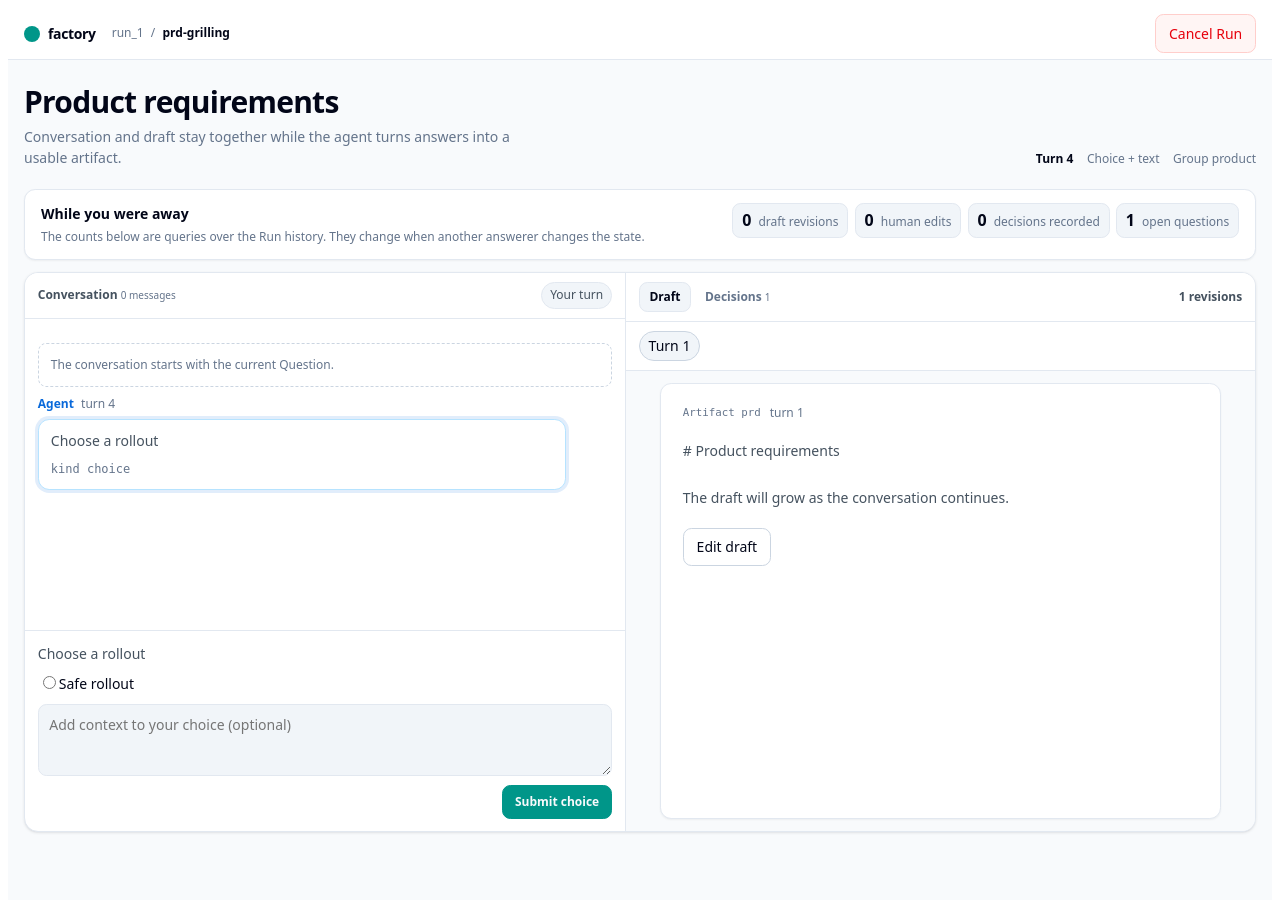
GrillingSession › shows the decisions tab and always keeps the free-text box for a choice Question
This screenshot has width=1280, height=900.
Expected: the text box named "answer" is shown, x1=38 y1=704 x2=612 y2=776
Click the tab "Decisions 1" at x=738, y=297, box x1=694 y1=282 x2=781 y2=312
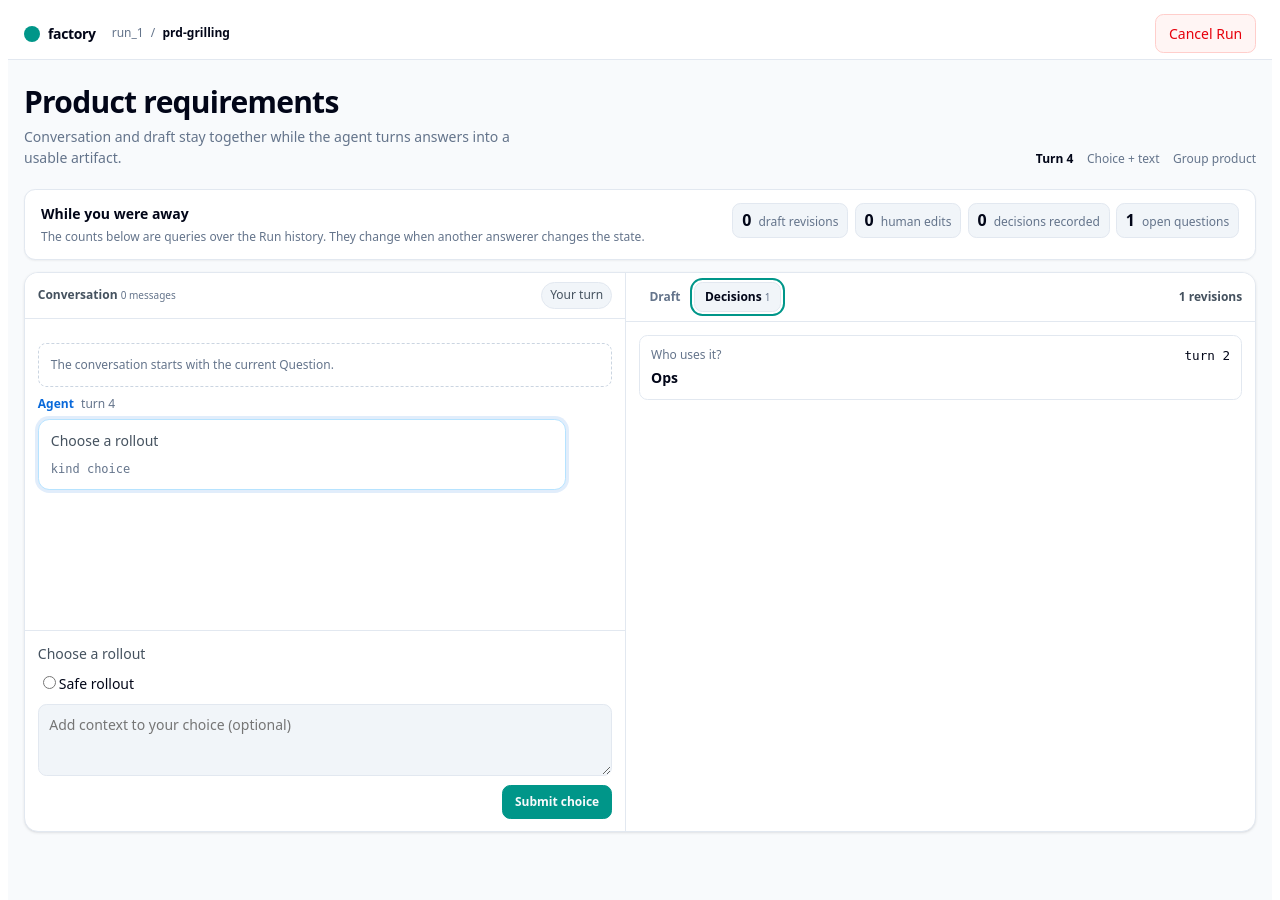
Expected: the text "Who uses it?" is shown, x1=651 y1=346 x2=721 y2=363
Expected: the text "Ops" is shown, x1=651 y1=368 x2=678 y2=387
